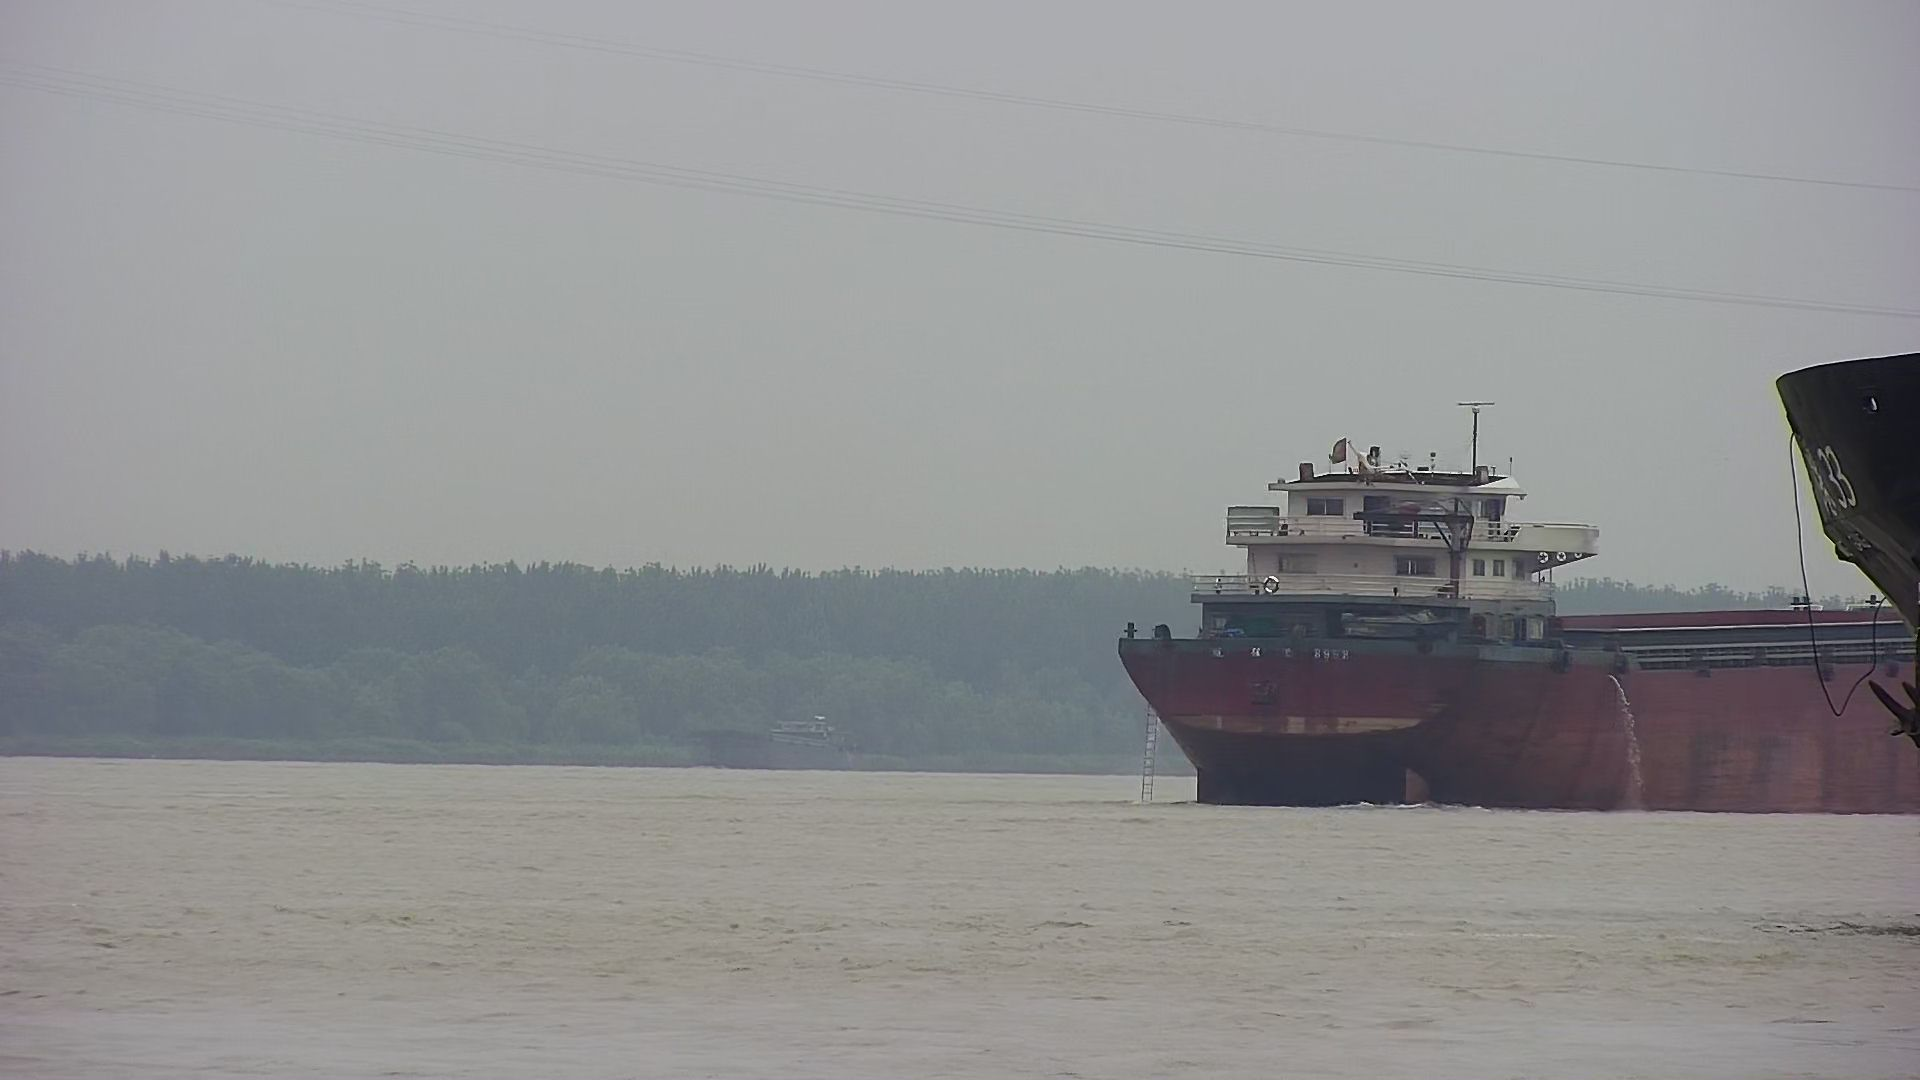ship: (1112, 450, 1920, 824), (1758, 336, 1920, 924)
